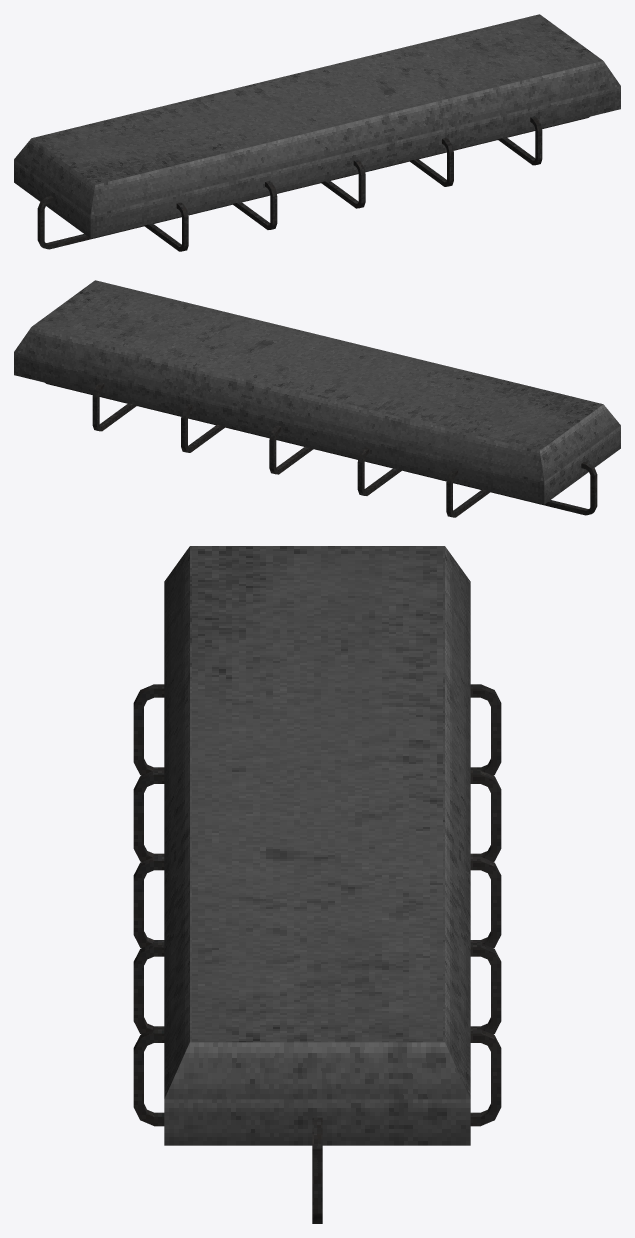
Rendered from ceiling_lamp_4_1_on.glb.
3 views of the same model, one above another, from view 1: azimuth 30°, elevation 25°; view 2: azimuth 150°, elevation 25°; view 3: azimuth 270°, elevation 25° (orthographic). The views are drawn at different scales.
Visible parts, largest first — view 1: ceiling_lamp_4_1_on, ceiling_lamp_4_1_on_protector; view 2: ceiling_lamp_4_1_on, ceiling_lamp_4_1_on_protector; view 3: ceiling_lamp_4_1_on, ceiling_lamp_4_1_on_protector.
Part boxes in pixels (x1=…): ceiling_lamp_4_1_on: x1=14, y1=14, x2=620, y2=238; ceiling_lamp_4_1_on_protector: x1=37, y1=116, x2=589, y2=251; ceiling_lamp_4_1_on: x1=14, y1=280, x2=620, y2=504; ceiling_lamp_4_1_on_protector: x1=45, y1=382, x2=597, y2=517; ceiling_lamp_4_1_on: x1=164, y1=546, x2=470, y2=1145; ceiling_lamp_4_1_on_protector: x1=133, y1=684, x2=501, y2=1223.
Bounding box in the file's own units: 1.26 × 0.18 × 0.36.
2 materials, 2 textured.
